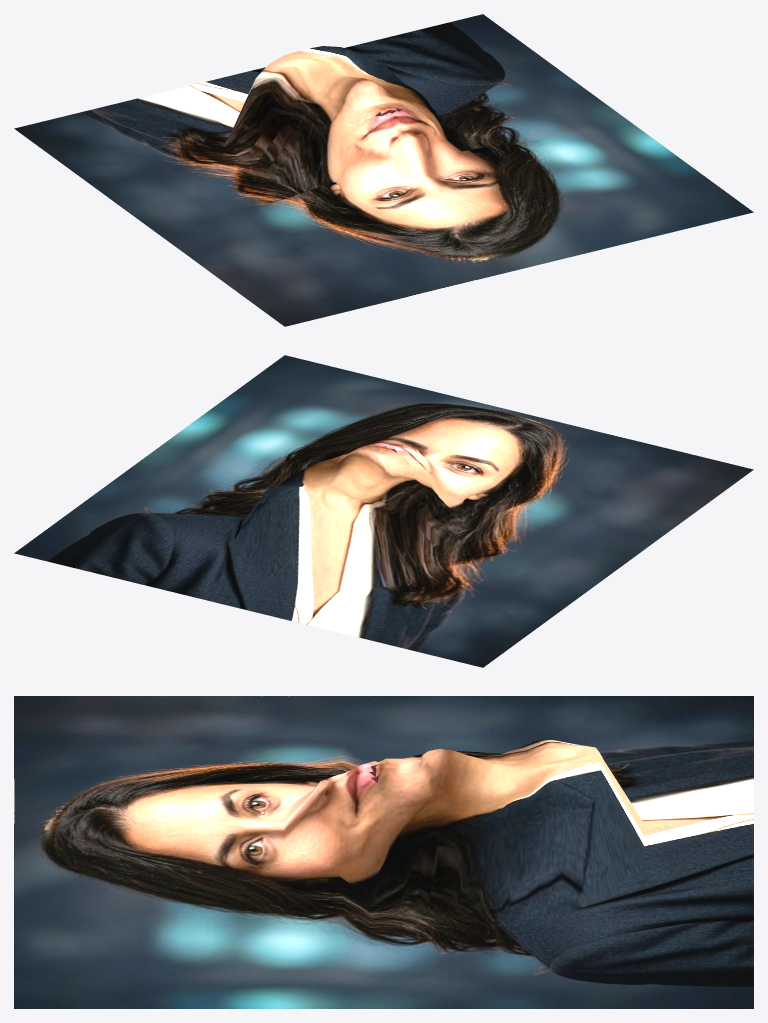
File: maya-3d.glb
3 renders of one model, top to bottom at view 1: azimuth 30°, elevation 25°; view 2: azimuth 150°, elevation 25°; view 3: azimuth 270°, elevation 25°, orthographic. The views are drawn at different scales.
Parts seen in each view (by area): view 1: MayaHead; view 2: MayaHead; view 3: MayaHead.
Part boxes in pixels (bbox=[...]): MayaHead: bbox=[14, 14, 753, 326]; MayaHead: bbox=[14, 355, 753, 667]; MayaHead: bbox=[14, 696, 753, 1008].
Size of the model in its own units: 2 by 0.3002 by 2.
2 materials, 1 textured.
